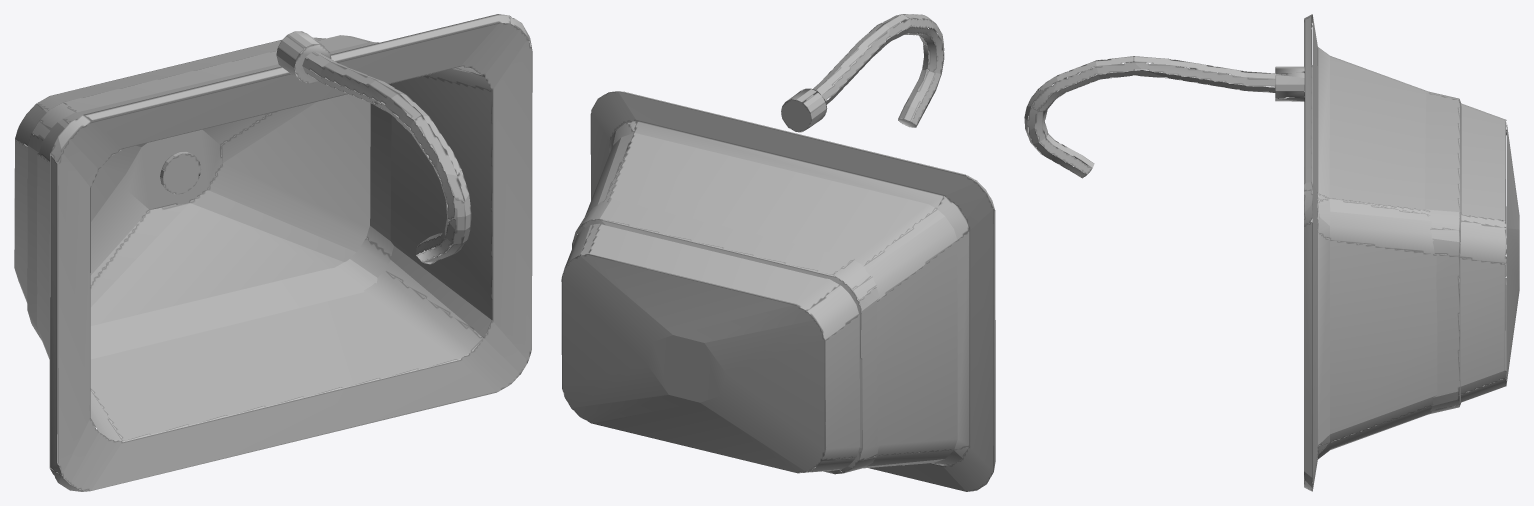
Rendered from pz_sink_inset_industrial.obj.
3 renders of one model, left to right at view 1: azimuth 30°, elevation 25°; view 2: azimuth 150°, elevation 25°; view 3: azimuth 270°, elevation 25°, orthographic. The views are drawn at different scales.
Size of the model in its own units: 0.5241 by 0.4461 by 0.5696.
Materials: 1 (1 with a texture image).
